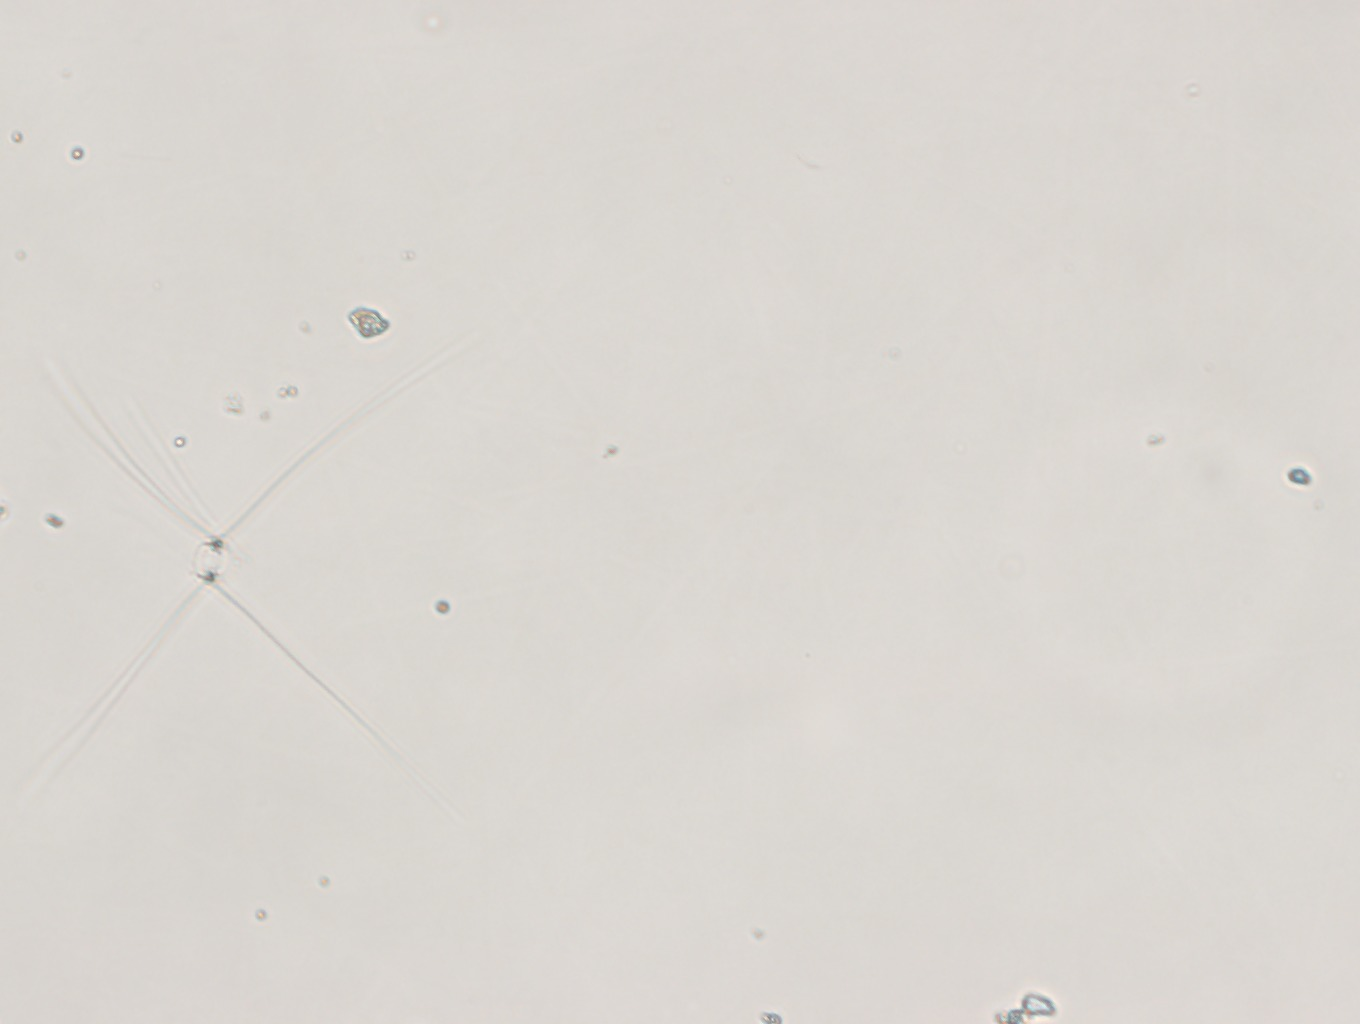chaetoceros: (23, 329, 474, 833)
